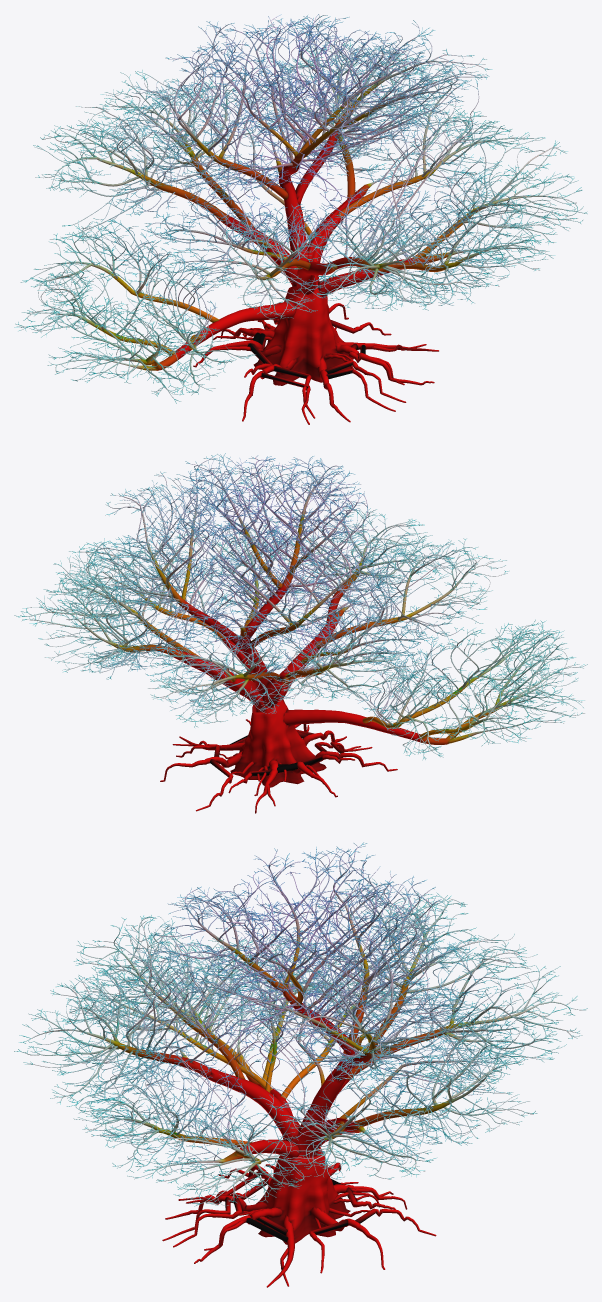
File: tree.glb
3 views of the same model, one above another, from view 1: azimuth 30°, elevation 25°; view 2: azimuth 150°, elevation 25°; view 3: azimuth 270°, elevation 25° (orthographic). The views are drawn at different scales.
Bounding box in the file's own units: 29.88 × 17.01 × 25.82.
